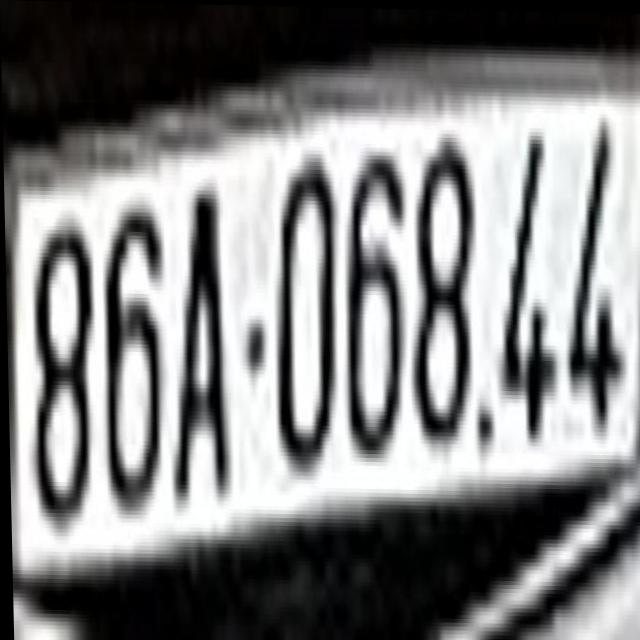0: (263, 137, 336, 483)
4: (561, 91, 625, 437), (498, 137, 557, 441)
6: (100, 211, 168, 530), (340, 134, 404, 465)
8: (32, 210, 97, 529), (410, 116, 471, 447)
A: (166, 185, 230, 512)
